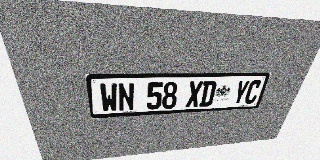5: (146, 82, 163, 110)
8: (161, 82, 179, 109)
C: (243, 80, 263, 104)
D: (199, 81, 217, 107)
N: (118, 83, 134, 111)
W: (99, 83, 118, 112)
X: (185, 81, 203, 108)
Y: (231, 80, 251, 105)
